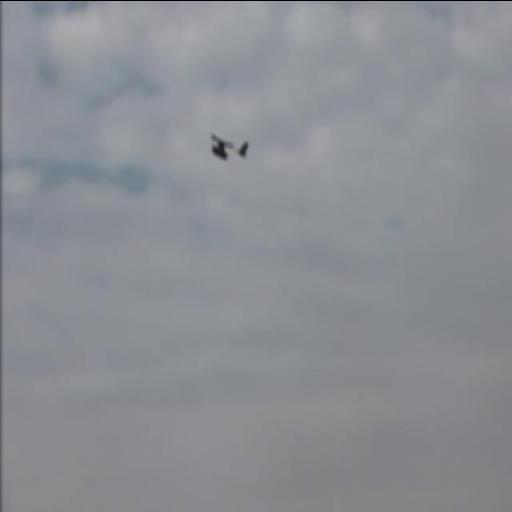uav: (208, 128, 250, 165)
